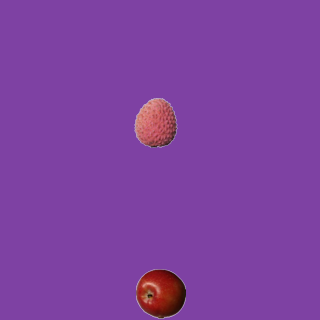Apple Braeburn: (135, 268, 185, 318)
Lychee: (130, 97, 180, 147)
